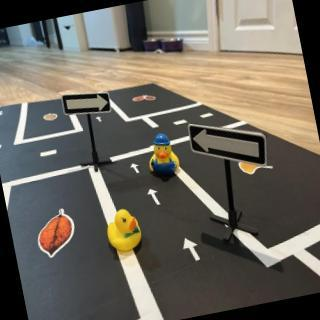duck_regular: (104, 207, 145, 255)
duck_specialty: (144, 132, 184, 185)
road_oneway: (180, 235, 203, 266), (146, 185, 165, 210), (127, 160, 141, 177), (95, 115, 106, 125), (1, 107, 6, 117)
sign_oneway_left: (187, 111, 273, 180)
sign_oneway_right: (62, 88, 113, 122)
